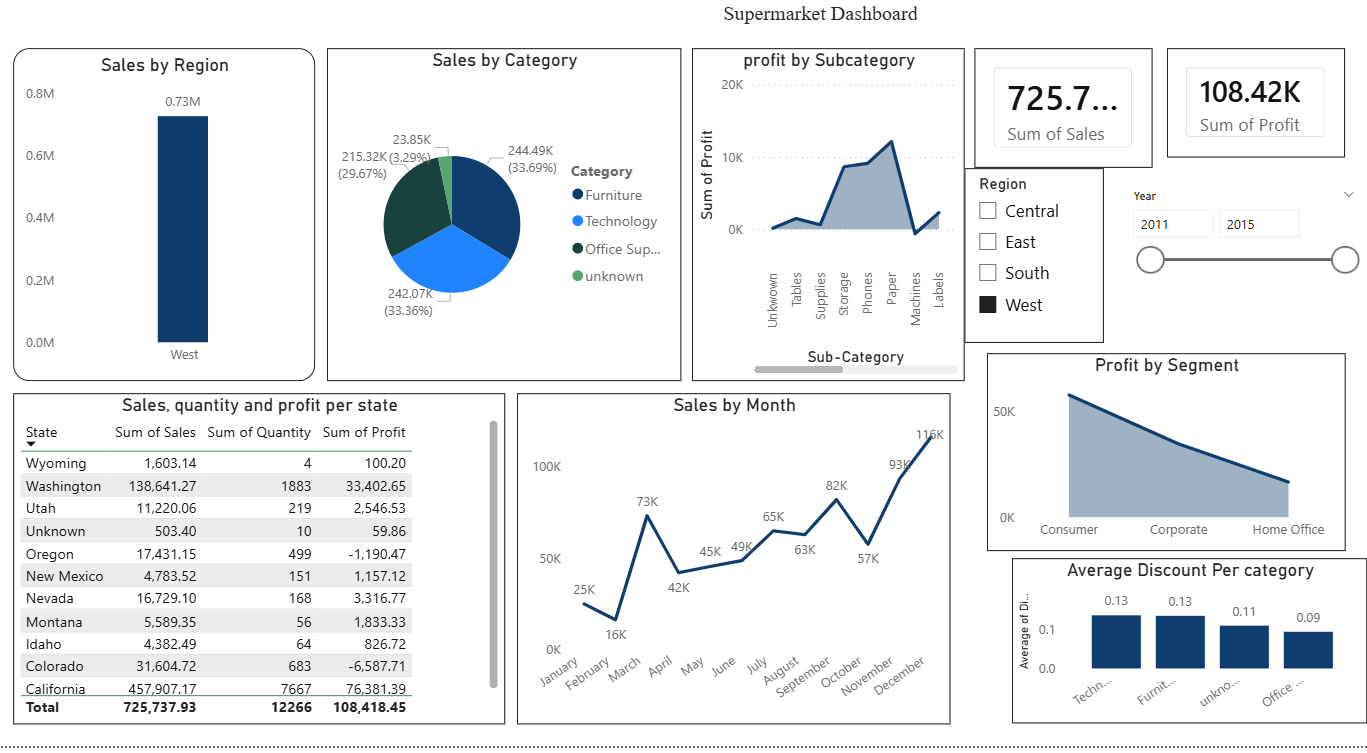

Layout of this report page (visuals, bound fields, positions):
{"tool":"powerbi","page":{"name":"Page 2","canvas":[1280,720],"ordinal":1},"visuals":[{"type":"cardVisual","title":"Total Sales Amount","fields":{"Data":["Sum(Orders.Sales)"]},"box":[913.7,71.3,165.3,111.2],"z":0},{"type":"textbox","box":[337.8,39.9,279.4,11.4],"z":1000},{"type":"clusteredColumnChart","title":" Sales by Region","fields":{"Y":["Sum(Orders.Sales)"],"Category":["Orders.Region"]},"box":[20,71.3,280.8,309.3],"z":2000},{"type":"textbox","box":[300.5,23.3,941.3,32.9],"z":3000},{"type":"pieChart","title":"Sales by Category","fields":{"Y":["Sum(Orders.Sales)"],"Category":["Orders.Category"]},"box":[312.2,71.3,329.3,309.3],"z":4000},{"type":"stackedAreaChart","title":"profit by Subcategory","fields":{"Category":["Orders.Sub-Category"],"Y":["Sum(Orders.Profit)"]},"box":[651.4,71.3,253.7,309.3],"z":5000},{"type":"tableEx","title":"Sales, quantity and profit per state","fields":{"Values":["Orders.State","Sum(Orders.Sales)","Sum(Orders.Quantity)","Sum(Orders.Profit)"]},"box":[20,392,457.6,307.9],"z":6000},{"type":"slicer","fields":{"Values":["Orders.Region"]},"box":[905.1,182.4,129.7,162.5],"z":7000},{"type":"lineChart","title":"Sales by Month","fields":{"Category":["Orders.Order Date.Variation.Date Hierarchy.Month"],"Y":["Sum(Orders.Sales)"]},"box":[488.9,392,403.4,307.9],"z":8000},{"type":"areaChart","title":"Profit by Segment","fields":{"Category":["Orders.Segment"],"Y":["Sum(Orders.Profit)"]},"box":[925.1,354.9,333.5,183.9],"z":9000},{"type":"clusteredColumnChart","title":"Average Discount Per category","fields":{"Category":["Orders.Category"],"Y":["Avg(Orders.Discount)"]},"box":[949.3,545.9,330.7,153.9],"z":11000},{"type":"cardVisual","fields":{"Data":["Sum(Orders.Profit)"]},"box":[1093.3,71.3,165.3,101.2],"z":12000},{"type":"slicer","fields":{"Values":["Orders.Ship Date.Variation.Date Hierarchy.Year"]},"box":[1048.5,197,230.7,148.2],"z":13000}]}

Visuals, with their boxes in screenshot pixels (x1, y1, x2, y2), scaled from the page's 1280x720 canvas onto the 1367x753 screenshot:
"Total Sales Amount" cardVisual: pyautogui.locateOnScreen(976, 75, 1152, 191)
textbox: pyautogui.locateOnScreen(361, 42, 659, 54)
" Sales by Region" clusteredColumnChart: pyautogui.locateOnScreen(21, 75, 321, 398)
textbox: pyautogui.locateOnScreen(321, 24, 1326, 59)
"Sales by Category" pieChart: pyautogui.locateOnScreen(333, 75, 685, 398)
"profit by Subcategory" stackedAreaChart: pyautogui.locateOnScreen(696, 75, 967, 398)
"Sales, quantity and profit per state" tableEx: pyautogui.locateOnScreen(21, 410, 510, 732)
slicer - Orders.Region: pyautogui.locateOnScreen(967, 191, 1105, 361)
"Sales by Month" lineChart: pyautogui.locateOnScreen(522, 410, 953, 732)
"Profit by Segment" areaChart: pyautogui.locateOnScreen(988, 371, 1344, 563)
"Average Discount Per category" clusteredColumnChart: pyautogui.locateOnScreen(1014, 571, 1366, 732)
cardVisual - Sum(Orders.Profit): pyautogui.locateOnScreen(1168, 75, 1344, 180)
slicer - Orders.Ship Date.Variation.Date Hierarchy.Year: pyautogui.locateOnScreen(1120, 206, 1366, 361)
